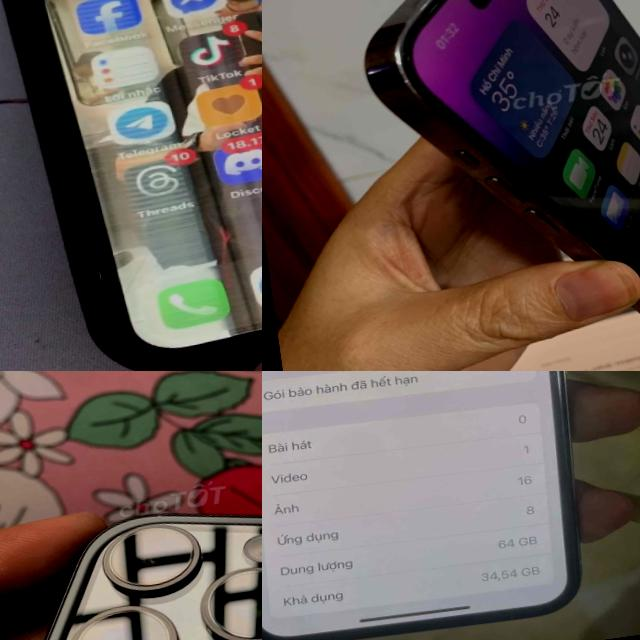gen_11: (0, 0, 262, 371)
gen_14: (341, 0, 640, 371)
gen_16: (0, 464, 262, 640)
gen_x_xs: (262, 371, 614, 640)
screen_defect: (57, 105, 262, 321), (19, 0, 262, 170), (118, 267, 262, 355)
